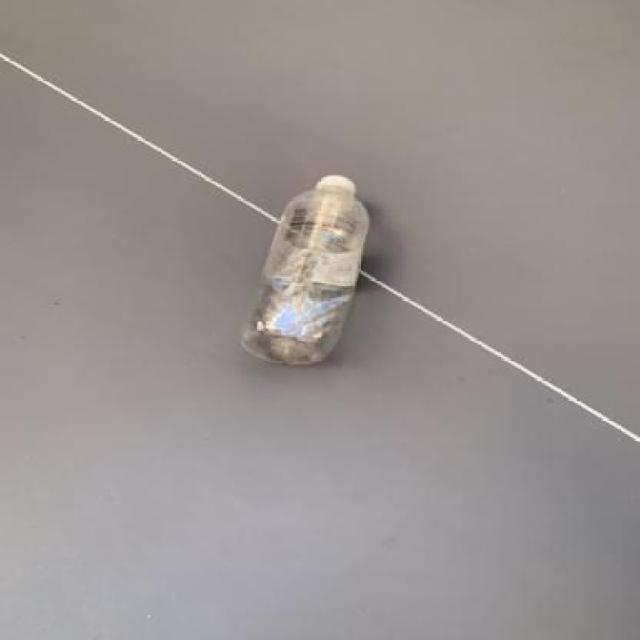trash: (238, 177, 372, 369)
